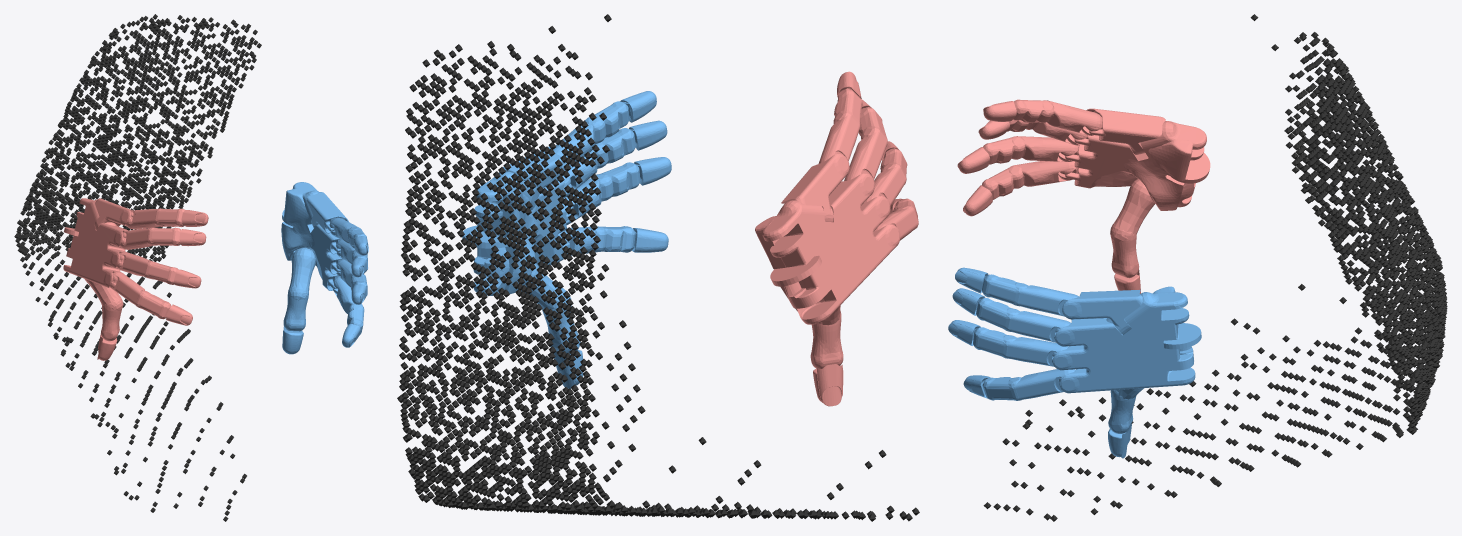
File: mujoco_Office_Depot_HP_71_Remanufactured_Ink_Cartridge_Black_scale030_inference.glb
The picture shows the model from 3 angles, left to right: view 1: azimuth 30°, elevation 25°; view 2: azimuth 150°, elevation 25°; view 3: azimuth 270°, elevation 25°; orthographic projection. The views are drawn at different scales.
Visible parts, largest first — view 1: object_pointcloud, left_shadow_hand, right_shadow_hand; view 2: object_pointcloud, left_shadow_hand, right_shadow_hand; view 3: object_pointcloud, right_shadow_hand, left_shadow_hand.
Boxes of the visible parts, x1,y1,x2,y2 form: object_pointcloud: [14, 14, 261, 521]; left_shadow_hand: [63, 198, 208, 360]; right_shadow_hand: [281, 182, 368, 354]; object_pointcloud: [397, 14, 919, 521]; left_shadow_hand: [755, 71, 918, 406]; right_shadow_hand: [462, 91, 671, 388]; object_pointcloud: [983, 14, 1447, 521]; right_shadow_hand: [948, 267, 1201, 458]; left_shadow_hand: [957, 99, 1210, 293].
Size of the model in its own units: 0.3064 by 0.4791 by 0.4177.
